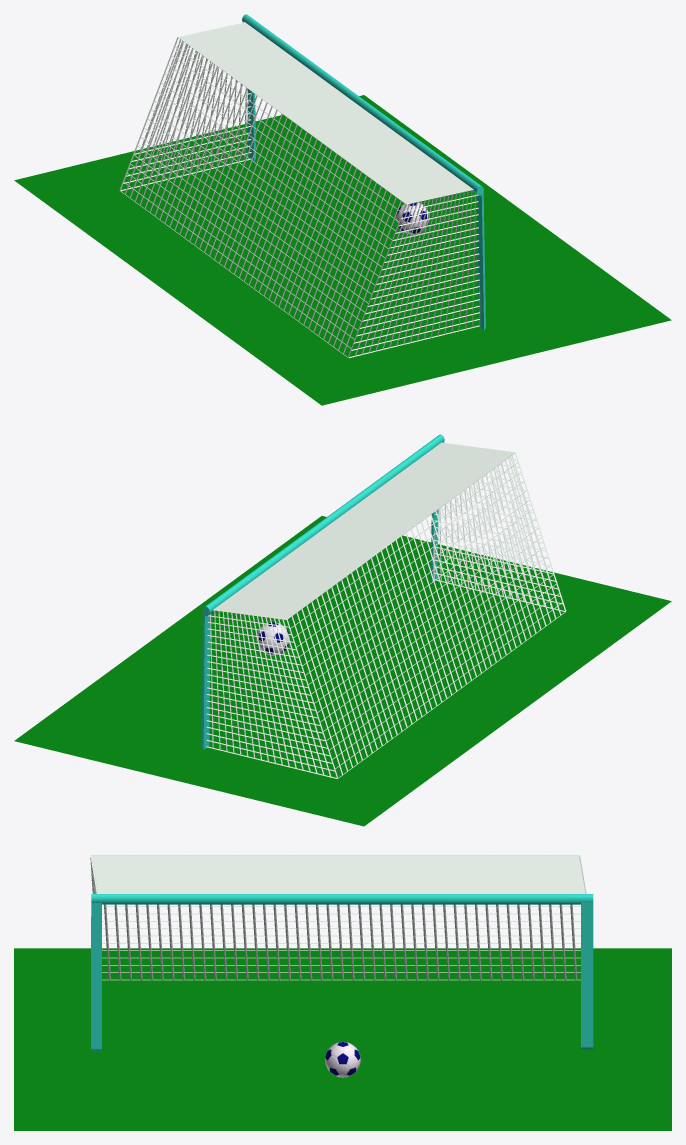
Rendered from Goal.fbx.
3 views of the same model, one above another, from view 1: azimuth 30°, elevation 25°; view 2: azimuth 150°, elevation 25°; view 3: azimuth 270°, elevation 25° (orthographic). The views are drawn at different scales.
Visible parts, largest first — view 1: Plane, Cube.001, Cube, Cube.002, Cylinder, Icosphere; view 2: Plane, Cube.001, Cube, Cube.002, Cylinder, Icosphere; view 3: Plane, Cube, Cube.001, Cylinder, Icosphere.
Boxes of the visible parts, bbox=[...] form: Plane: bbox=[14, 95, 671, 405]; Cube.001: bbox=[120, 37, 406, 357]; Cube: bbox=[178, 22, 473, 203]; Cube.002: bbox=[119, 22, 480, 357]; Cylinder: bbox=[242, 14, 485, 329]; Icosphere: bbox=[396, 202, 429, 234]; Plane: bbox=[14, 516, 671, 826]; Cube.001: bbox=[287, 453, 565, 778]; Cube: bbox=[213, 443, 514, 619]; Cube.002: bbox=[206, 442, 566, 778]; Cylinder: bbox=[201, 434, 444, 749]; Icosphere: bbox=[256, 622, 289, 655]; Plane: bbox=[14, 948, 671, 1130]; Cube: bbox=[91, 855, 585, 893]; Cube.001: bbox=[91, 855, 580, 980]; Cylinder: bbox=[91, 894, 593, 1050]; Icosphere: bbox=[325, 1042, 360, 1077].
Bounding box in the file's own units: 532 × 212 × 810.
